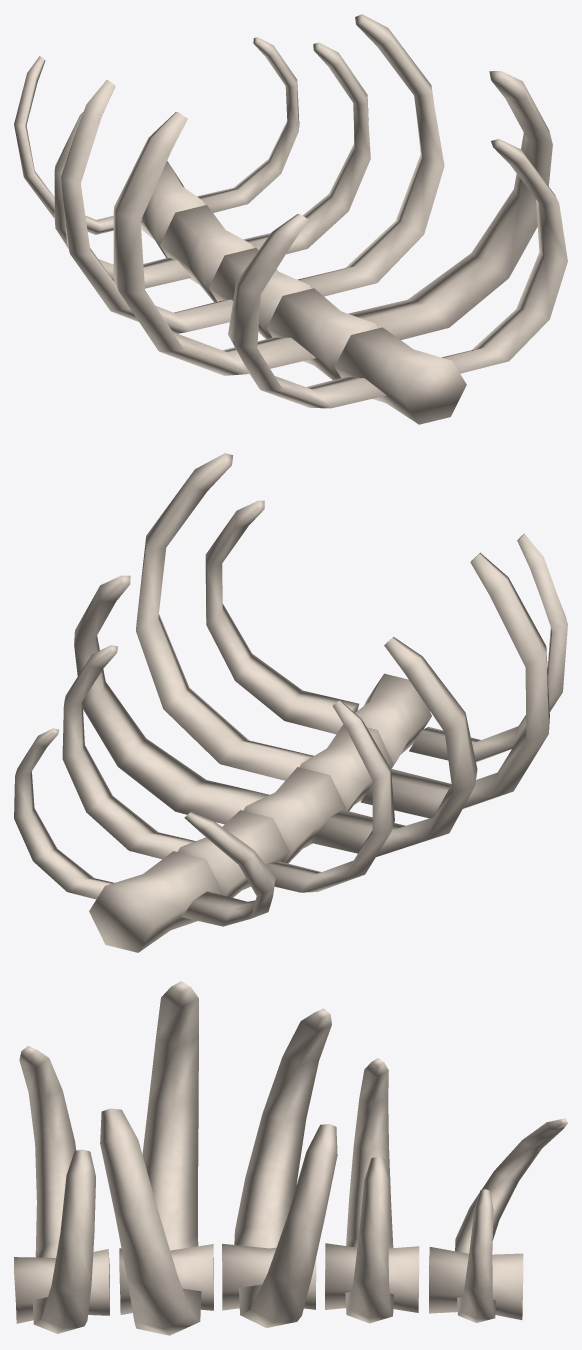
The model's file is Bones_01.FBX.
3 renders of one model, top to bottom at view 1: azimuth 30°, elevation 25°; view 2: azimuth 150°, elevation 25°; view 3: azimuth 270°, elevation 25°, orthographic. The views are drawn at different scales.
Visible parts, largest first — view 1: Bones_01; view 2: Bones_01; view 3: Bones_01.
Part boxes in pixels (x1,y1,x2,y2): Bones_01: (14, 14, 567, 424); Bones_01: (14, 453, 567, 952); Bones_01: (14, 981, 567, 1335).
Bounding box in the file's own units: 4.37 × 2.89 × 5.57.
